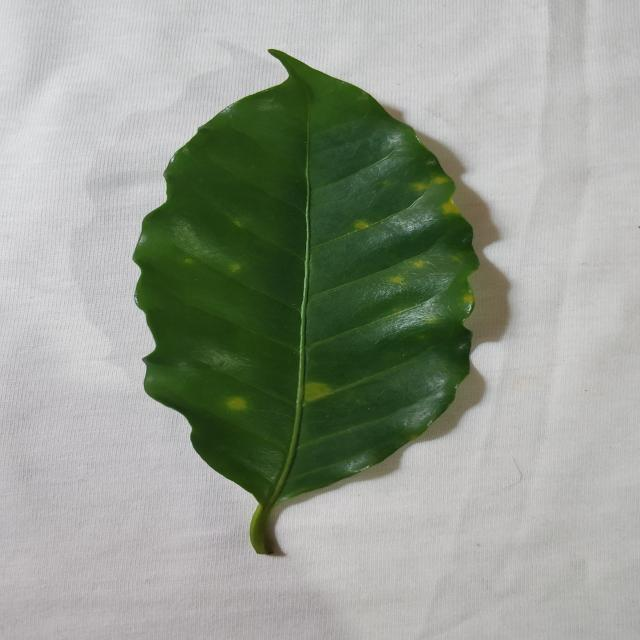Enfermedad-Roya: (131, 49, 482, 560)
